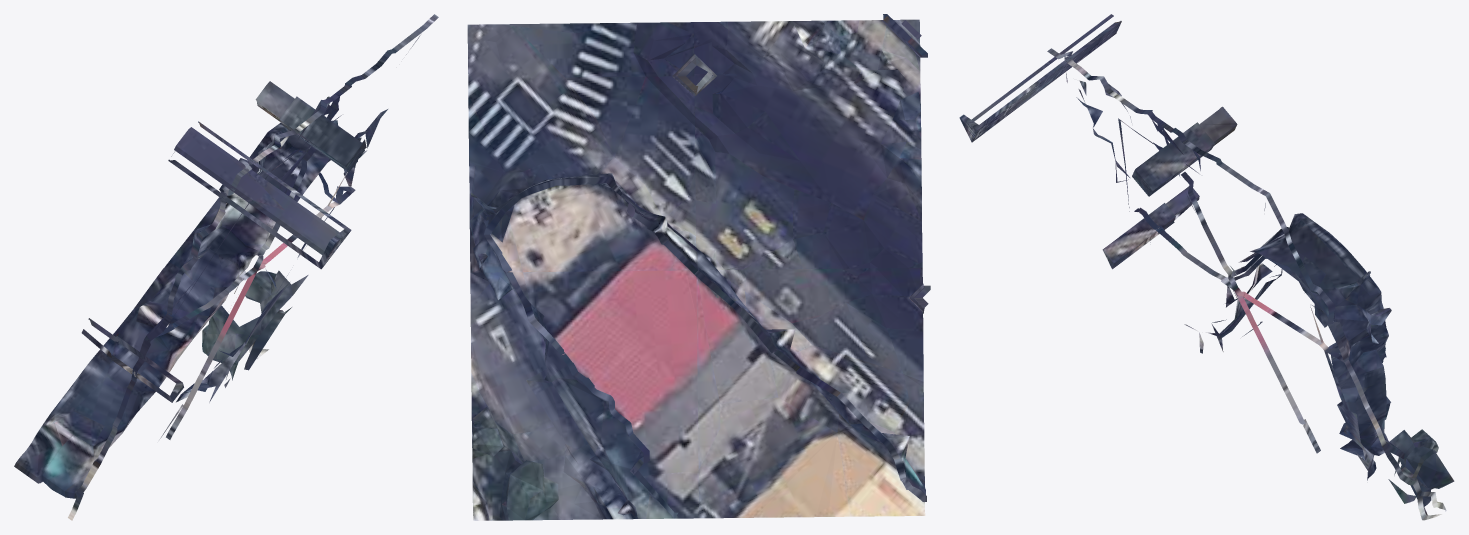
3 views of the same model, side by side, from view 1: azimuth 30°, elevation 25°; view 2: azimuth 150°, elevation 25°; view 3: azimuth 270°, elevation 25° (orthographic). The views are drawn at different scales.
Size of the model in its own units: 40.44 by 37.64 by 41.78.
2 materials, 2 textured.
